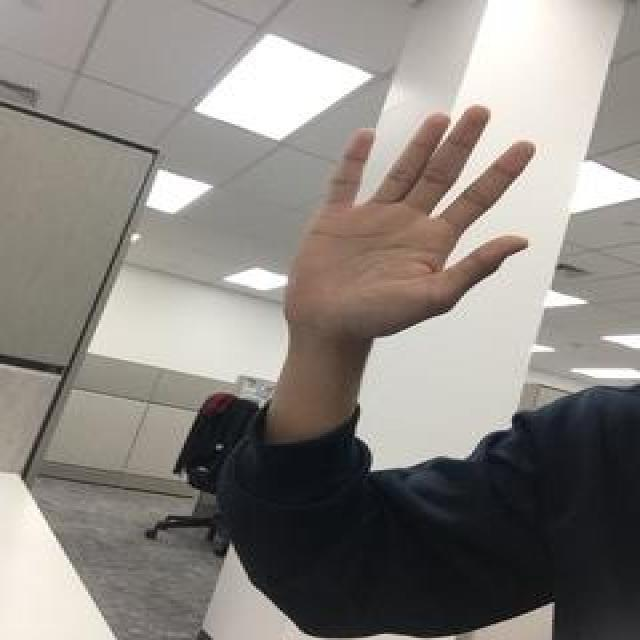no-gloves: (283, 102, 536, 342)
